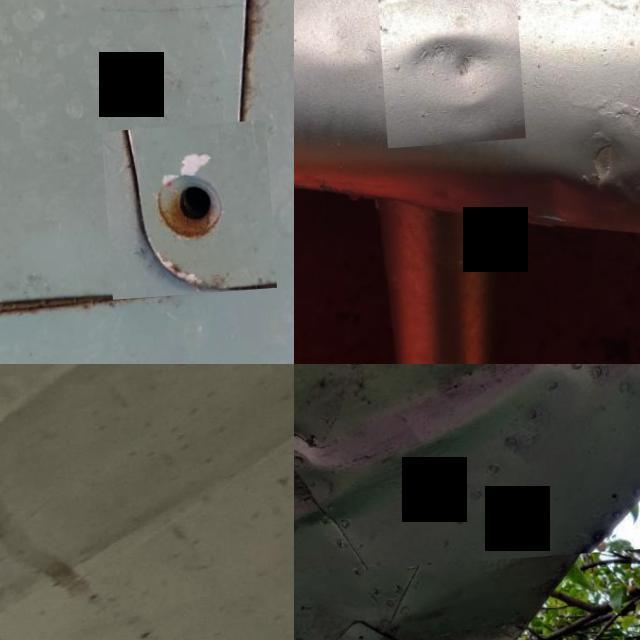Crack: (428, 407, 497, 453)
Dent: (294, 364, 640, 590), (374, 0, 520, 152), (504, 99, 640, 253), (342, 590, 541, 640)
Missing_Fastener: (98, 126, 272, 304)
